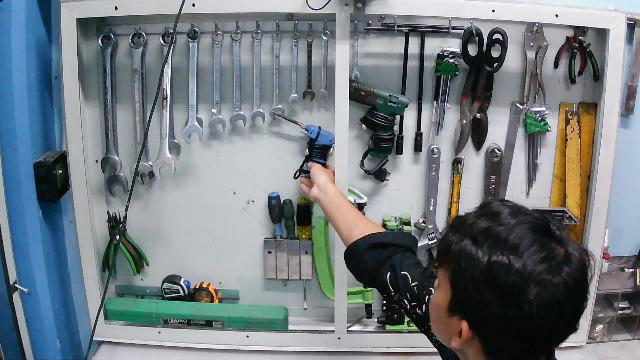solder_electrical: (270, 107, 336, 181)
